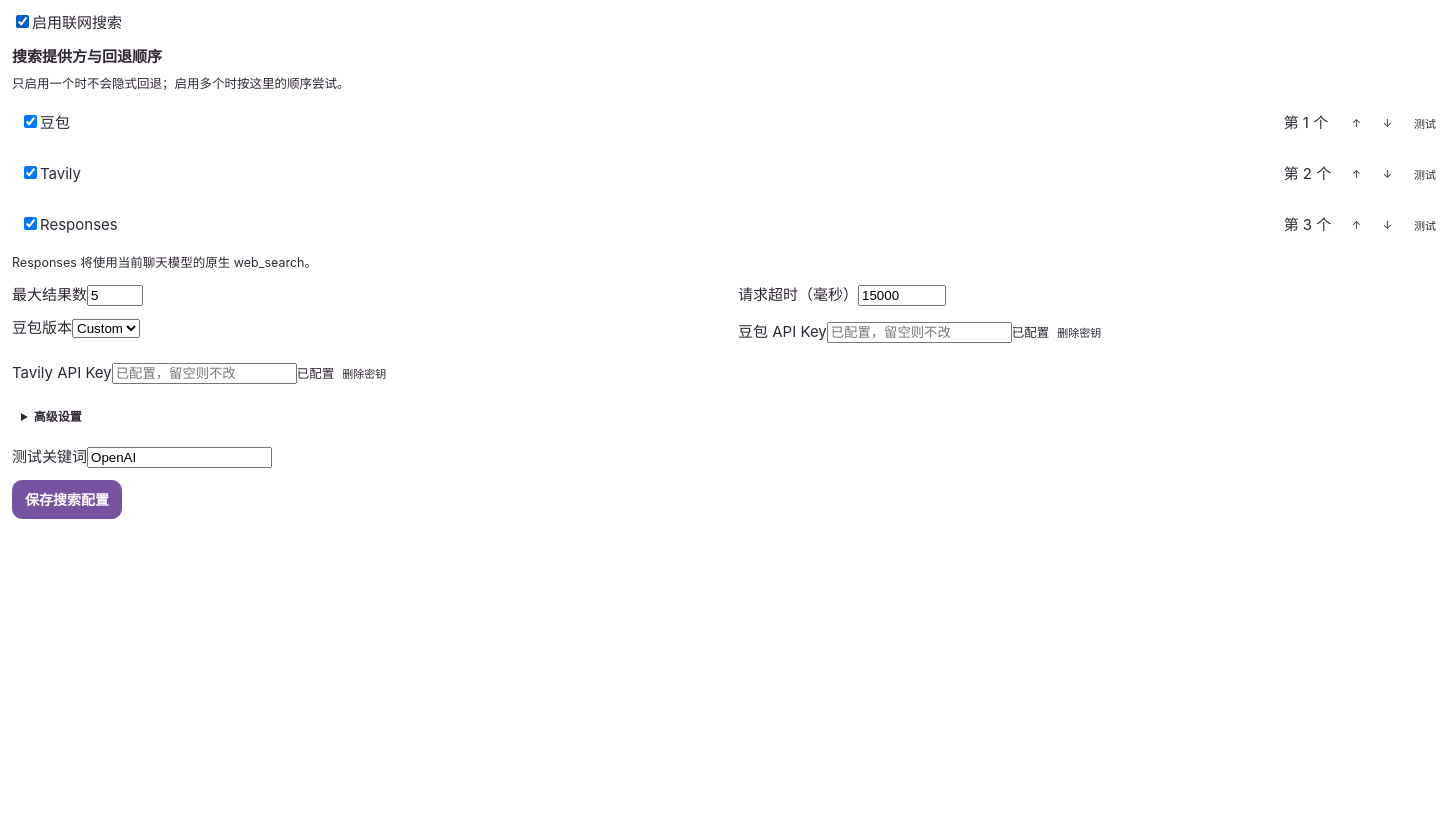
Test: WebSearchModelEditor › does not report success when the native probe returns ok:false
The width and height of the screenshot is (1452, 822).
Click the button with aria-label "测试豆包". click: (1425, 123)
box: top-left (1406, 108), bottom-right (1444, 138)
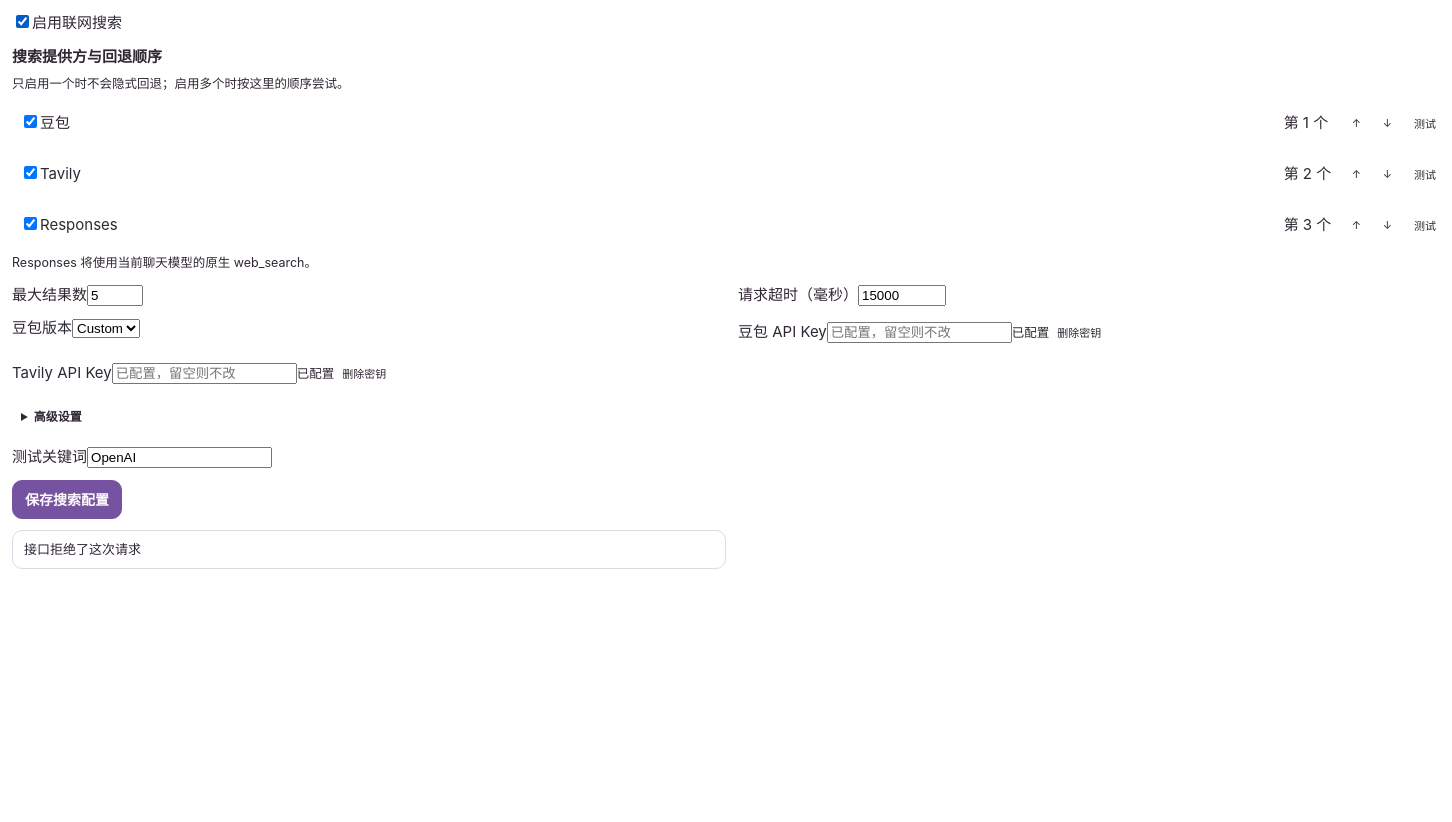
Result: the text "接口拒绝了这次请求" is shown at top-left (12, 530), bottom-right (726, 569)
